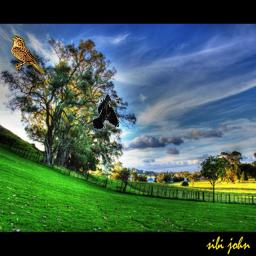Crow: (93, 94, 119, 131)
Sparrow: (11, 35, 46, 74)
